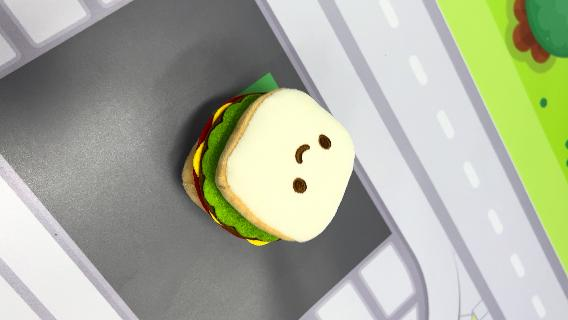sandwich: (180, 85, 358, 247)
